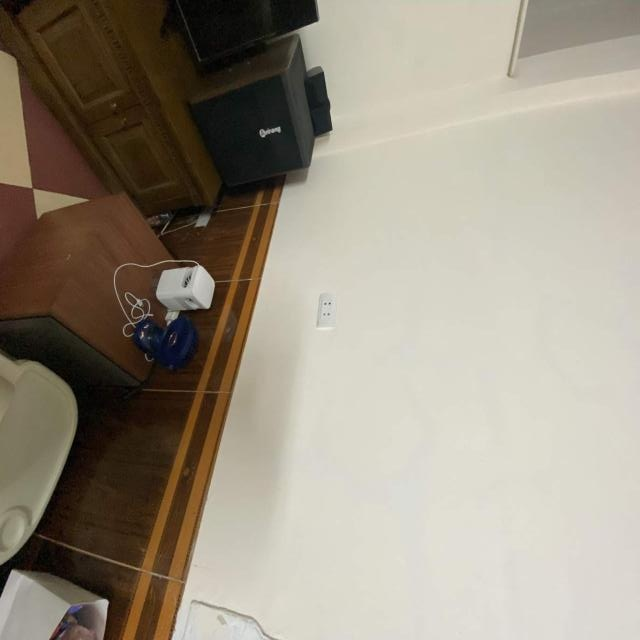outlet: (317, 293, 338, 328)
